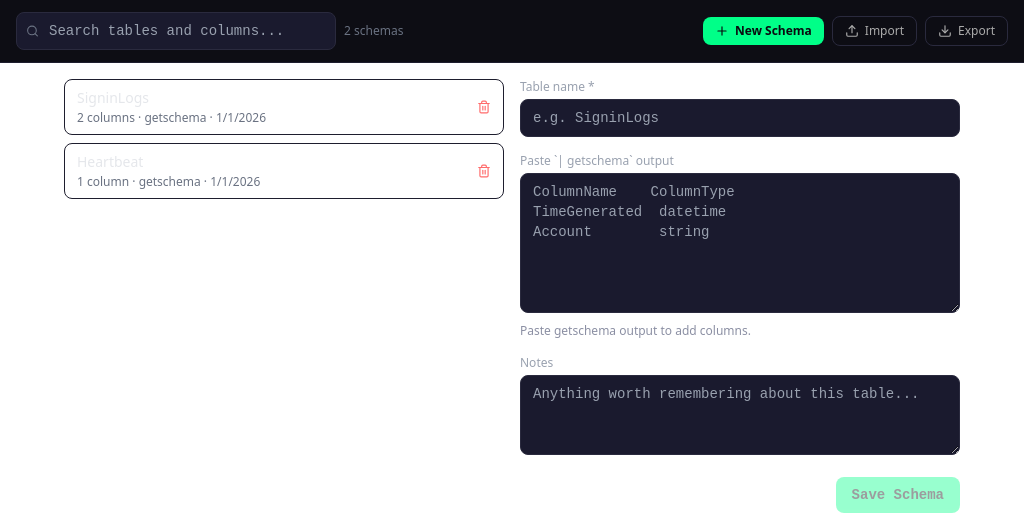
search › also matches on column names, saying how many columns matched
Check: the text "SigninLogs" is shown, box [77,88,149,107]
Type "userprincipal" into the field named "Search table and column names" at x=176, y=31, box [16,12,336,50]
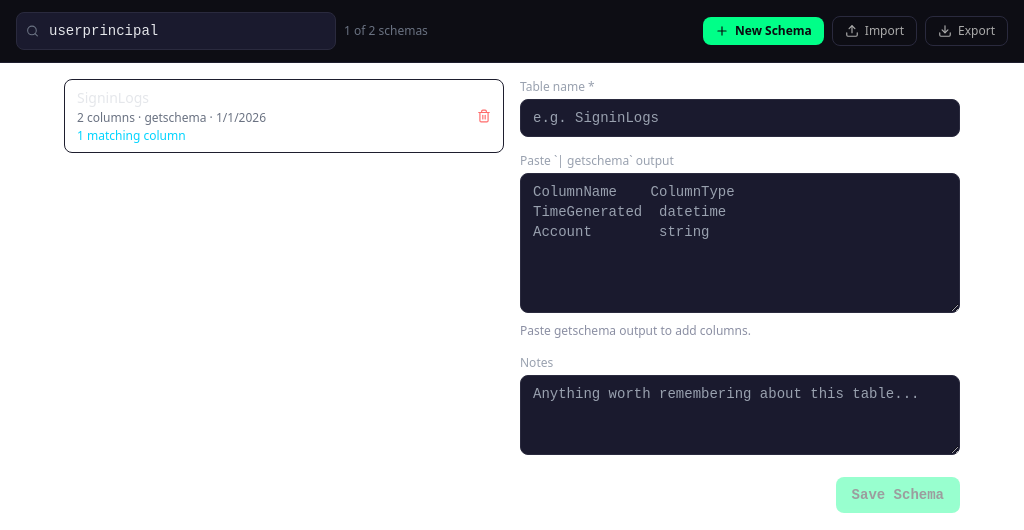
Check: the text "SigninLogs" is shown, box [77,88,149,107]
Check: the button "Heartbeat" is gone
Check: the text "1 matching column" is shown, box [77,127,186,144]
